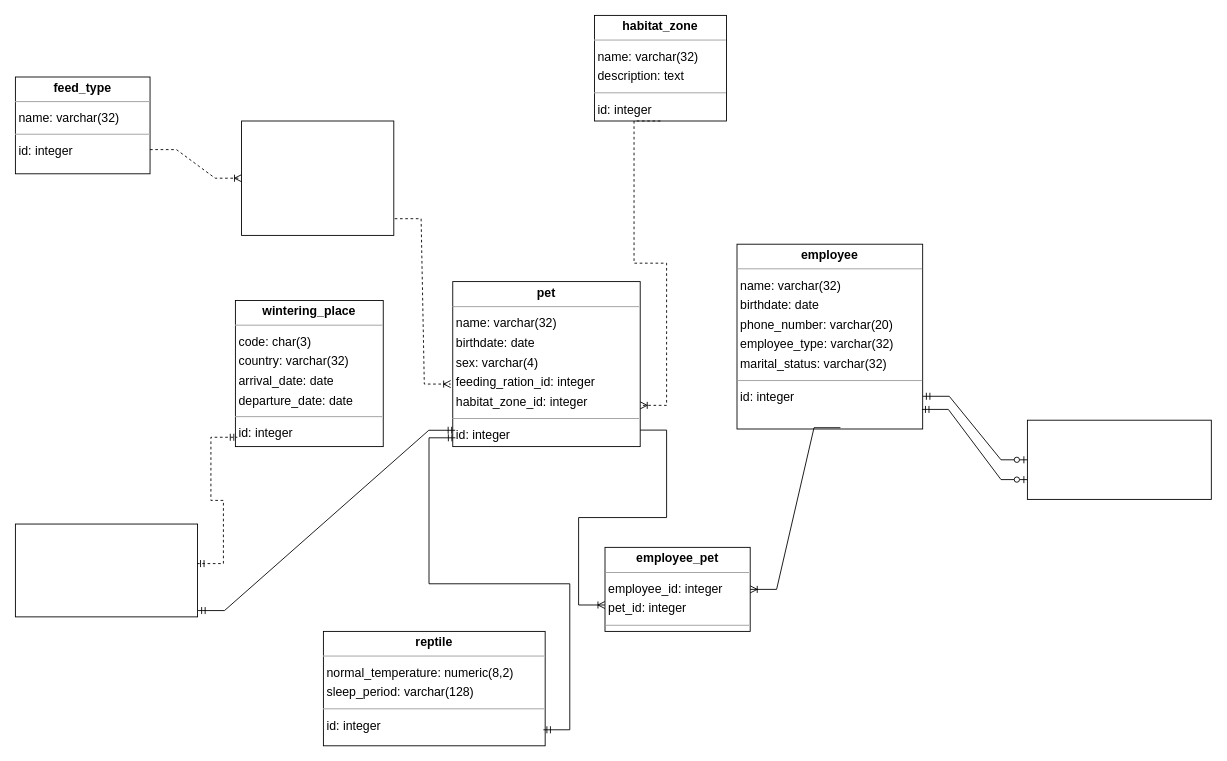
Some shapes in this 1227 by 761 pixel diagram are drawn without their labels. The shapes that lost their labels are listed below. From the top down, each one's centre as x and y in pixels, then its label:
At point (317, 177): "feeding_ration name: varchar(32) feed_type_id: integer id: integer".
At point (1119, 459): "spouses first_spouse_id: integer second_spouse_id: integer".
At point (106, 570): "bird wintering_place_id: integer id: integer".
